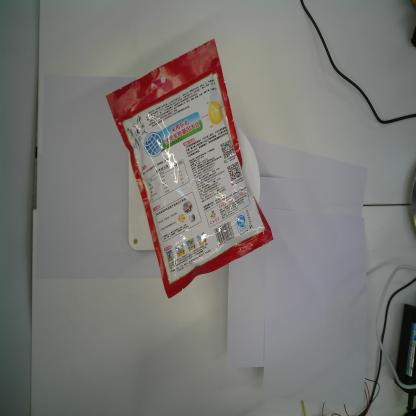Instant Drink: (102, 37, 274, 299)
